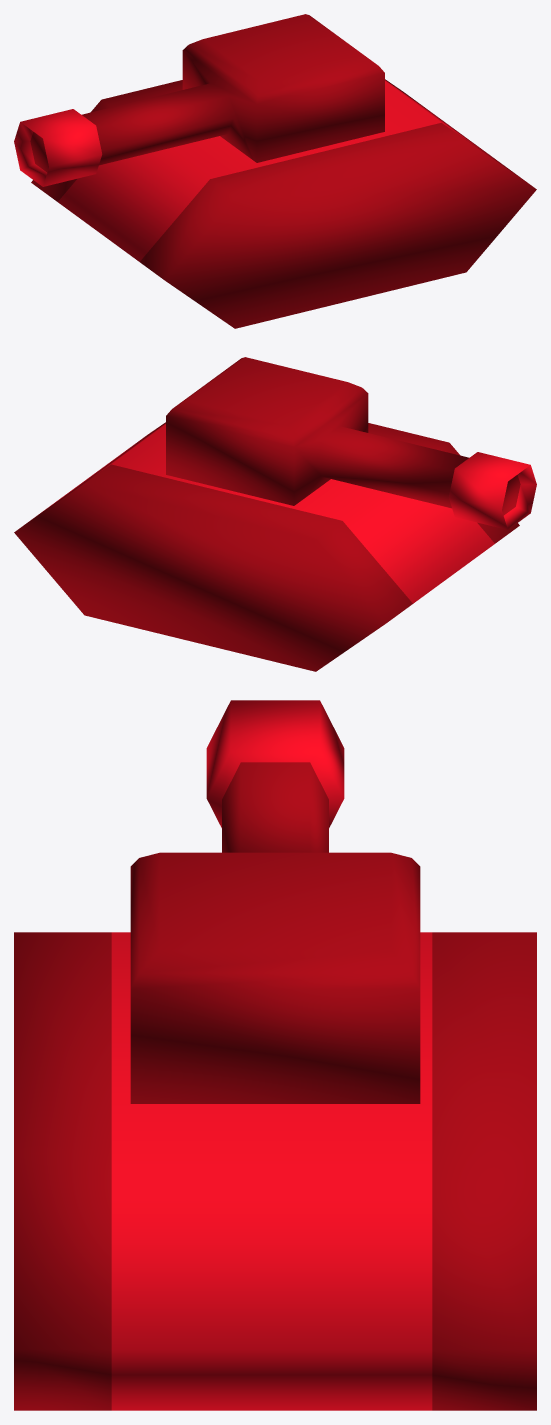
File: Player2.fbx
3 renders of one model, top to bottom at view 1: azimuth 30°, elevation 25°; view 2: azimuth 150°, elevation 25°; view 3: azimuth 270°, elevation 25°, orthographic. The views are drawn at different scales.
Visible parts, largest first — view 1: Cube.001, Cube.002; view 2: Cube.001, Cube.002; view 3: Cube.001, Cube.002.
Part boxes in pixels (x1,y1,x2,y2): Cube.001: (31, 79, 536, 328); Cube.002: (14, 14, 384, 186); Cube.001: (14, 422, 519, 671); Cube.002: (166, 357, 536, 529); Cube.001: (14, 932, 536, 1410); Cube.002: (130, 700, 420, 1103).
Size of the model in its own units: 616 by 273 by 325.
